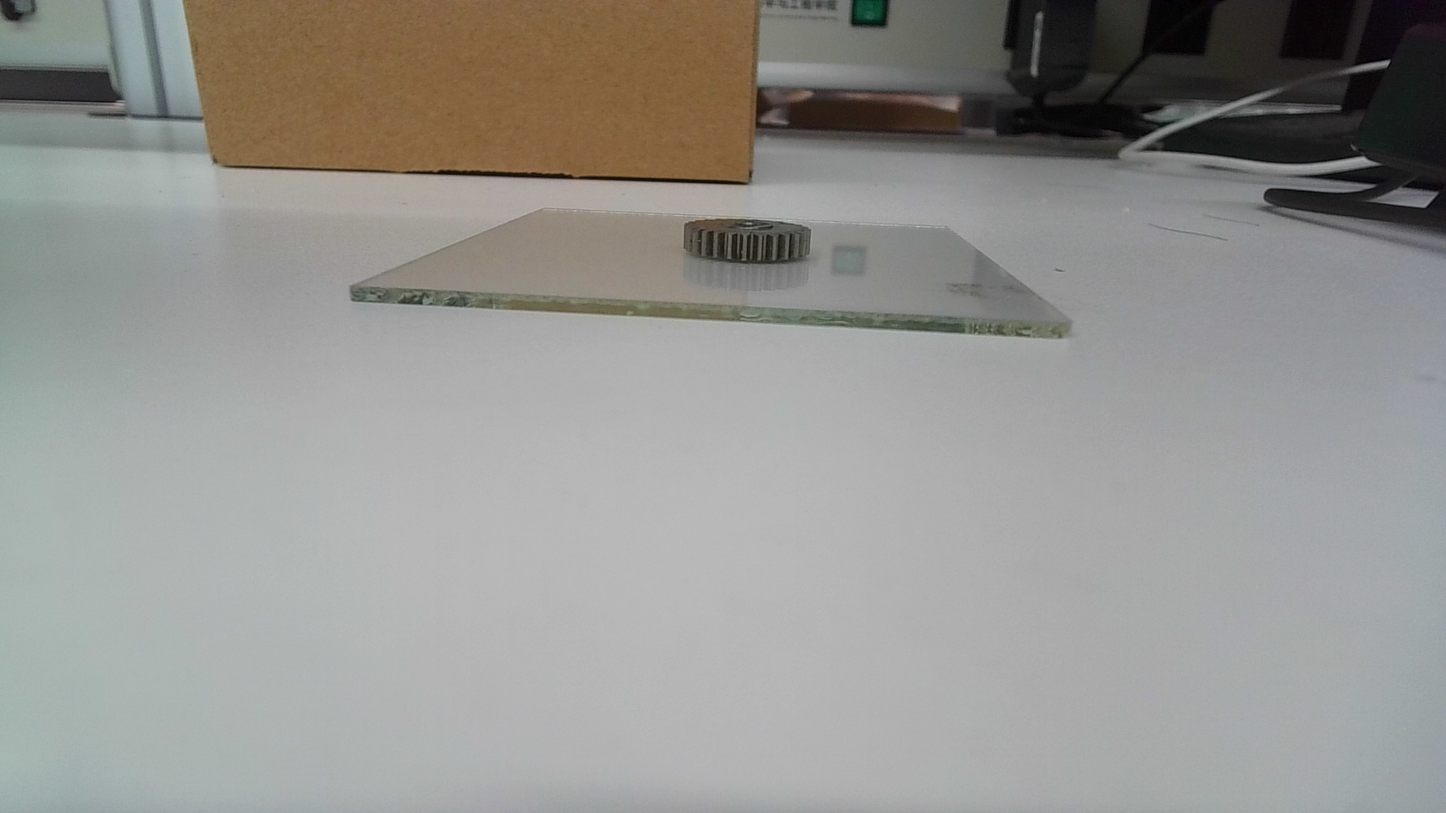gear: (681, 216, 814, 264)
